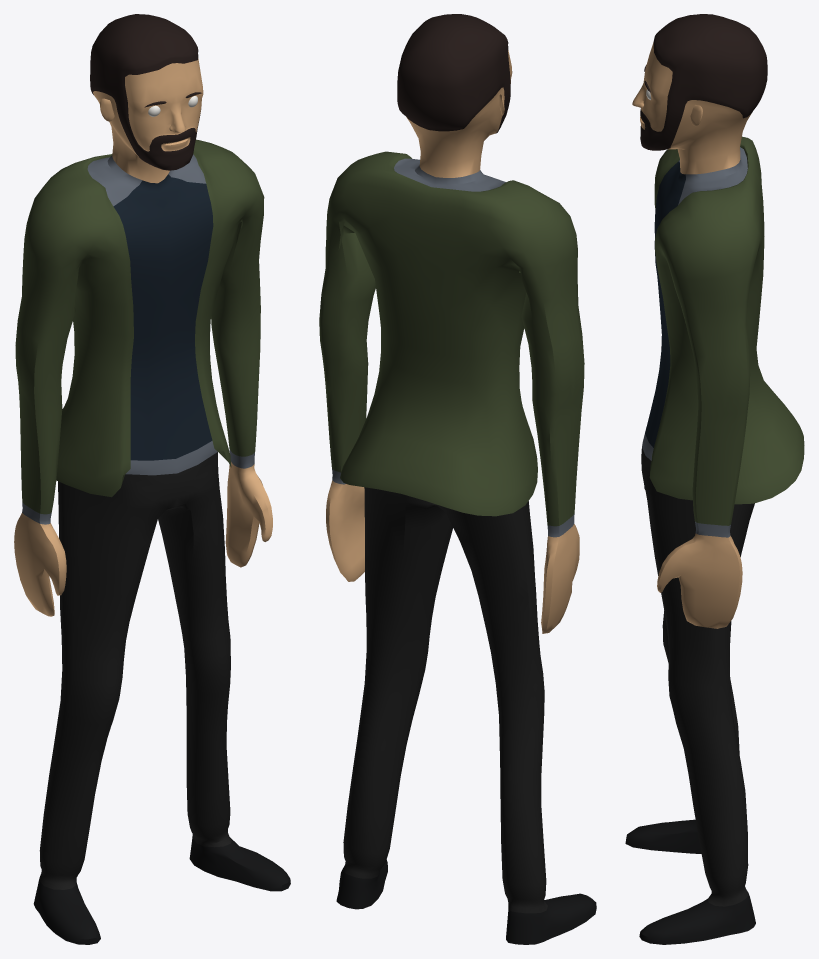
Rendered from smooth_male_suit.glb.
The picture shows the model from 3 angles, left to right: view 1: azimuth 30°, elevation 25°; view 2: azimuth 150°, elevation 25°; view 3: azimuth 270°, elevation 25°; orthographic projection. The views are drawn at different scales.
Visible parts, largest first — view 1: SmoothMaleSuit; view 2: SmoothMaleSuit; view 3: SmoothMaleSuit.
Part boxes in pixels (x1,y1,x2,y2): SmoothMaleSuit: [14, 14, 290, 944]; SmoothMaleSuit: [319, 14, 596, 944]; SmoothMaleSuit: [625, 14, 804, 944].
Bounding box in the file's own units: 0.5233 × 1.8 × 0.3365.
